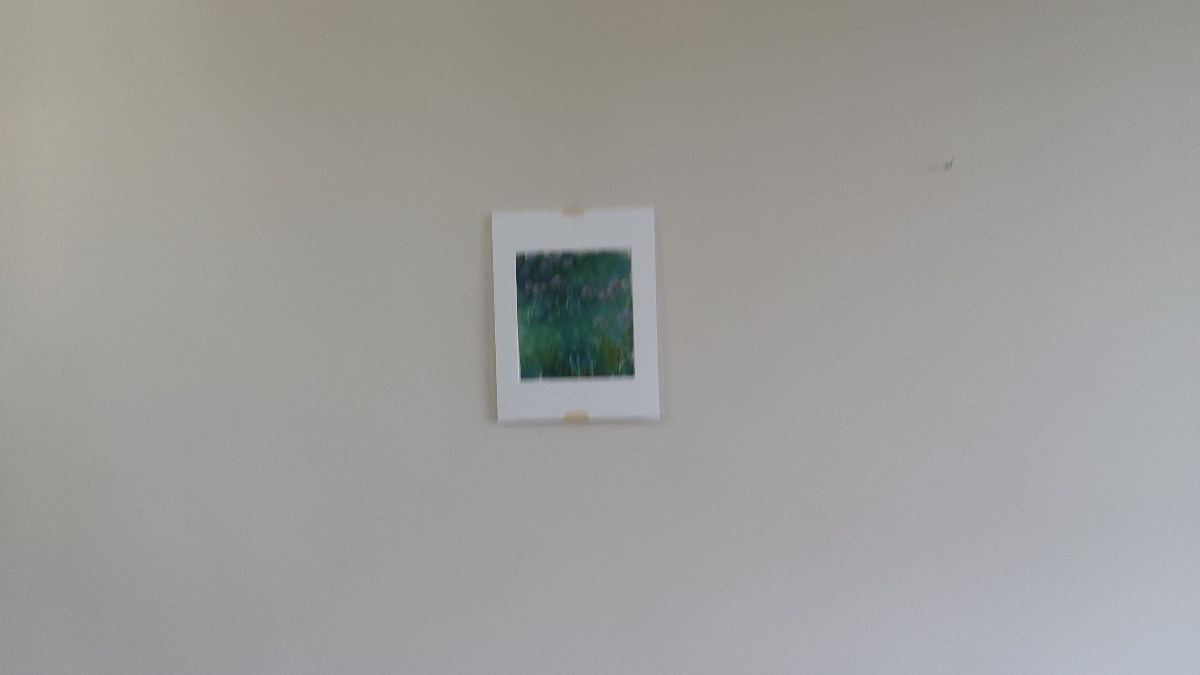painting: (510, 243, 645, 388)
